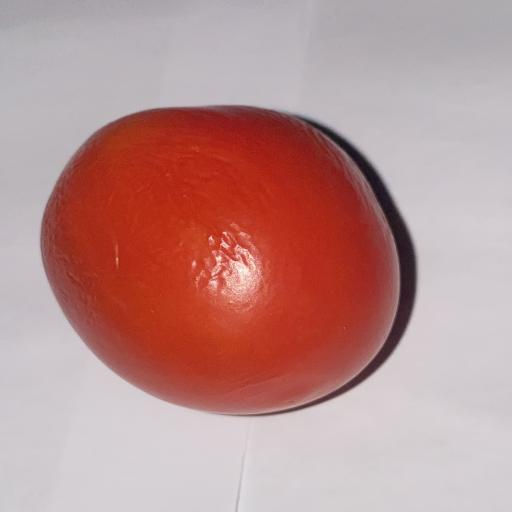overipe: (41, 106, 400, 414), (256, 262, 257, 264)
